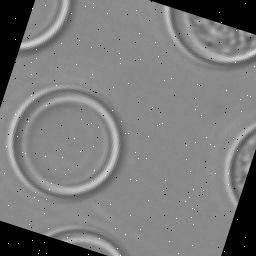picoshell: (5, 86, 122, 203), (163, 7, 256, 70), (16, 0, 73, 58), (223, 123, 256, 207), (43, 226, 123, 256)
